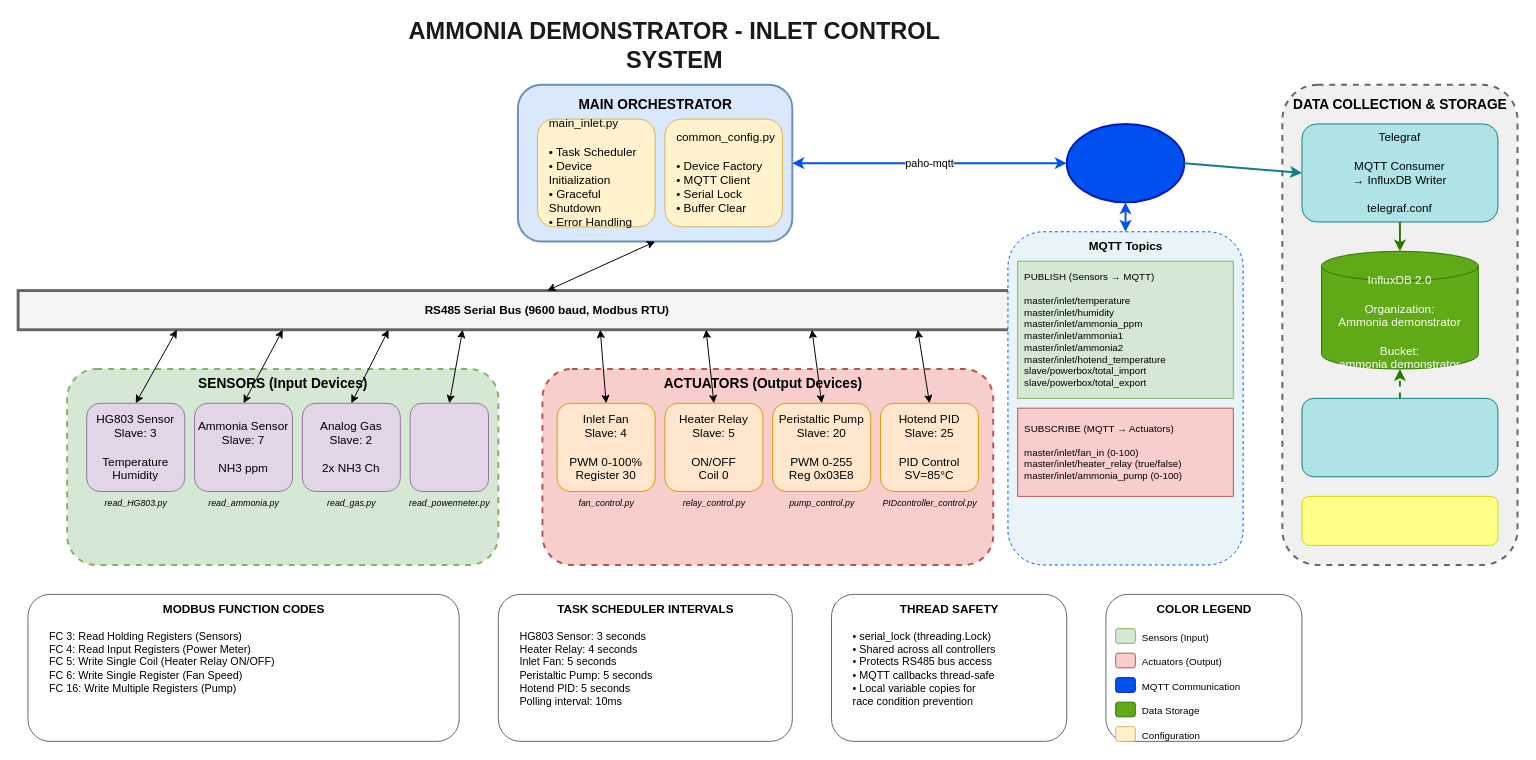
This 1536x760 diagram has some shape labels left out. The shapes that lost their labels are listed below. From the top down, each one's box as (x1, y1, x2, y2) in pixels, then its label:
(1065, 122, 1185, 203): MQTT Broker 127.0.0.1:1883
(409, 402, 489, 491): Power Meter Slave: 60 Import/Export kWh
(1301, 397, 1498, 477): subscriber.py test_sub.py Alternative MQTT → InfluxDB
(1301, 495, 1498, 545): search_devices.py Device Discovery
